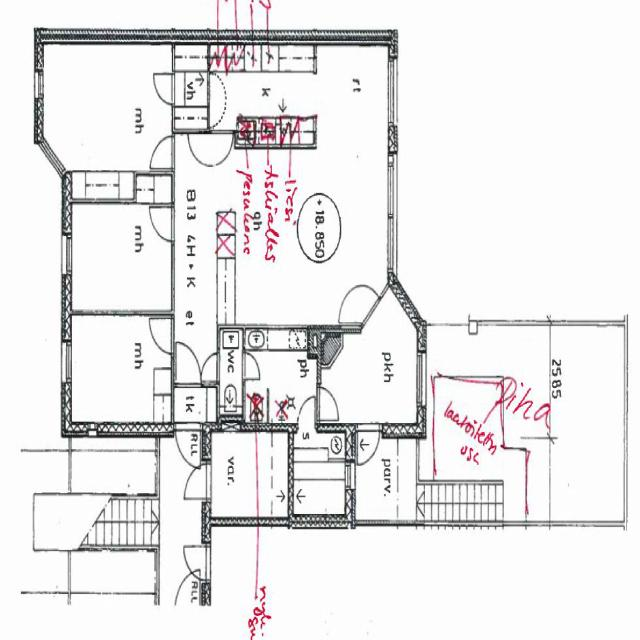door: (348, 271, 380, 323), (176, 422, 200, 470), (176, 342, 201, 388), (357, 423, 380, 468), (184, 464, 211, 498), (149, 318, 174, 353), (149, 207, 174, 241), (211, 130, 233, 168), (317, 387, 340, 420), (151, 136, 174, 168), (297, 394, 315, 432), (152, 74, 174, 104), (200, 353, 220, 381), (242, 352, 261, 378)
